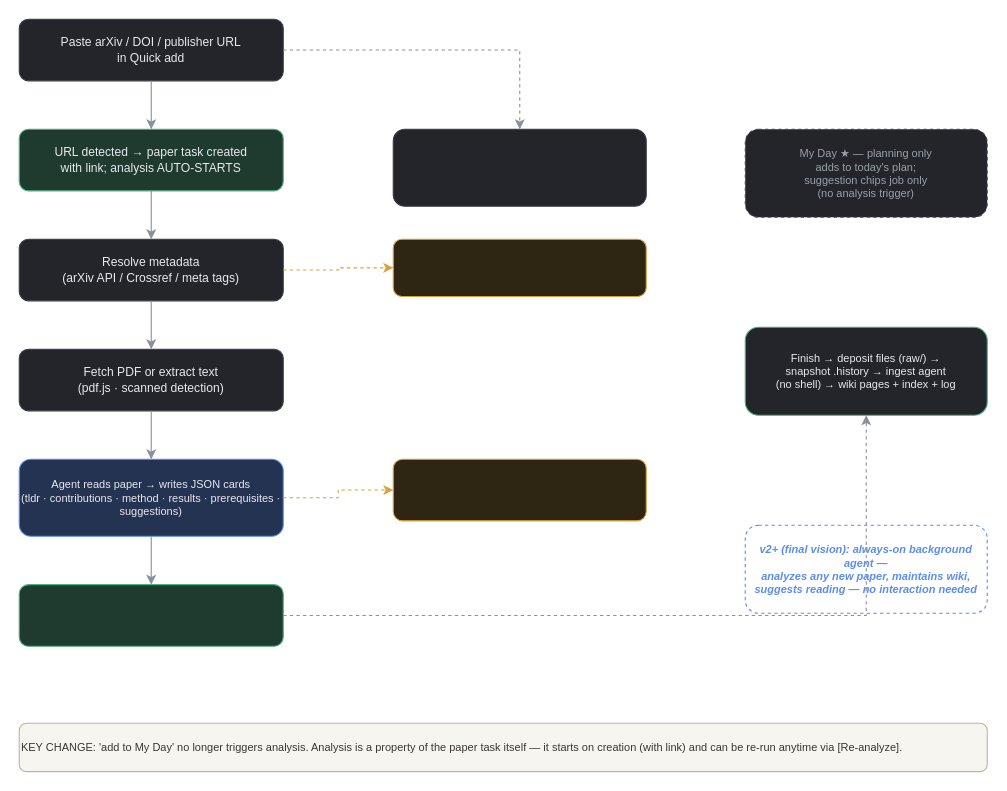
The diagram is 1007 pixels wide and 791 high, and some of its shapes have lost their labels. Here are the shapes that lost their labels. From the top down, the centre of each, then its label:
At [519,167]: "Paper task without link → row shows [Attach PDF] → analysis after attach".
At [519,267]: "resolve fails → badge 'analysis failed' + [Retry] on row & detail".
At [519,489]: "title mismatch → warning box: [It's correct] [Correct link] [Attach PDF]".
At [150,615]: "Cards saved → row badge 'analyzed' detail panel shows full analysis".
